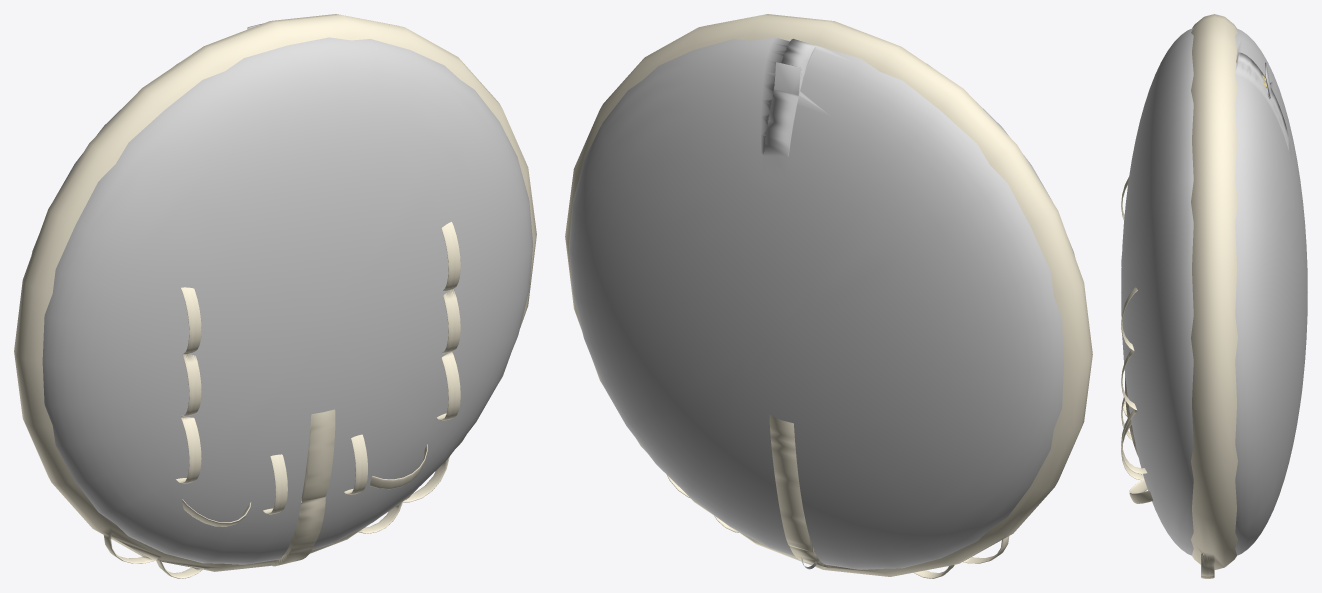
File: skitube.glb
3 views of the same model, side by side, from view 1: azimuth 30°, elevation 25°; view 2: azimuth 150°, elevation 25°; view 3: azimuth 270°, elevation 25° (orthographic). The views are drawn at different scales.
Parts seen in each view (by area): view 1: Node3, Node6, Node4; view 2: Node5, Node6; view 3: Node5, Node3, Node6, Node4.
Boxes of the visible parts, x1,y1,x2,y2 form: Node3: [42, 37, 532, 564]; Node6: [14, 14, 536, 578]; Node4: [45, 38, 531, 563]; Node5: [569, 37, 1063, 569]; Node6: [565, 14, 1092, 578]; Node5: [1235, 28, 1307, 555]; Node3: [1121, 28, 1193, 555]; Node6: [1121, 14, 1302, 578]; Node4: [1122, 28, 1193, 552].
Size of the model in its own units: 20.94 by 20.94 by 7.
